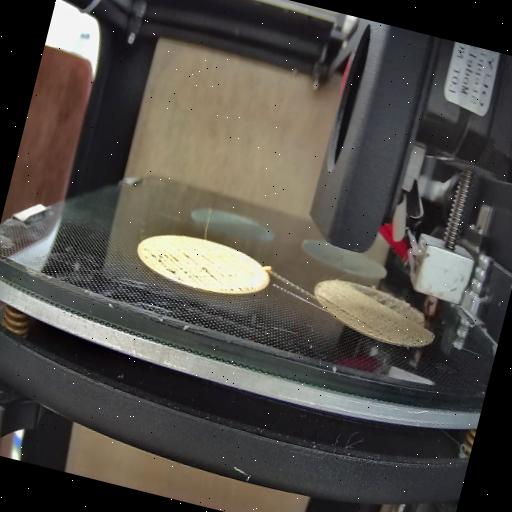under_extrusion: (137, 243, 254, 302), (314, 298, 388, 336), (372, 288, 408, 316)
